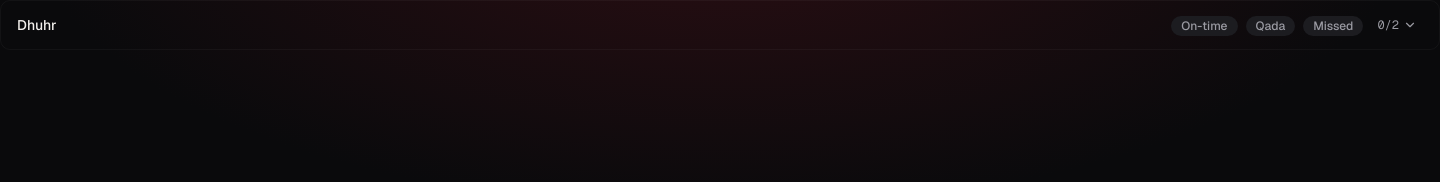
Scenario: PrayerRow › clicking anywhere on the row bar (not just the chevron) toggles the sunnah disclosure
This screenshot has width=1440, height=182.
Step 1. Click the text "Dhuhr" → point(37, 25), box [17,15,57,35]
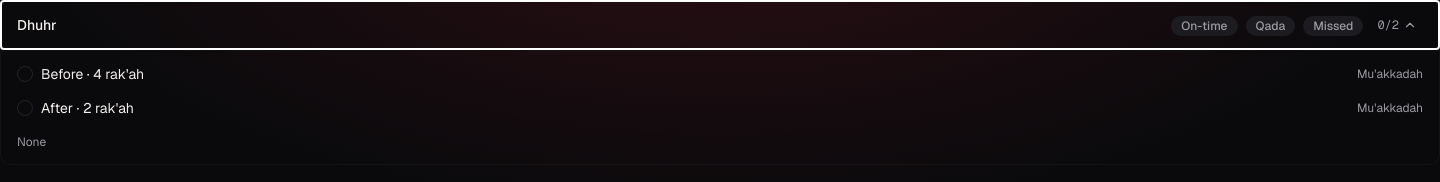
Expected: the button named "sunnah for dhuhr" is expanded, [1371,13,1423,37]
Step 2. Click the text "Dhuhr" → point(37, 25), box [17,15,57,35]
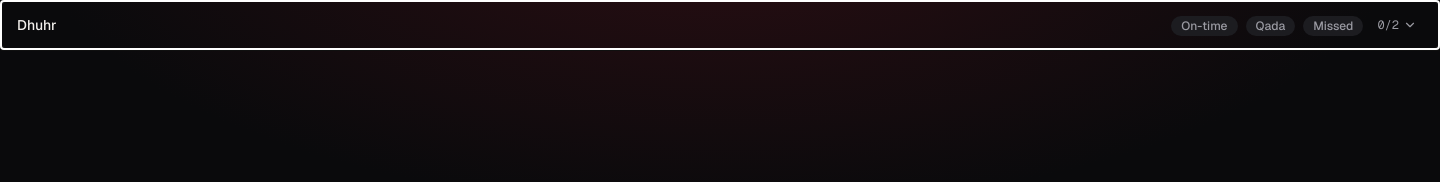
Expected: the button named "sunnah for dhuhr" is collapsed, [1371,13,1423,37]
